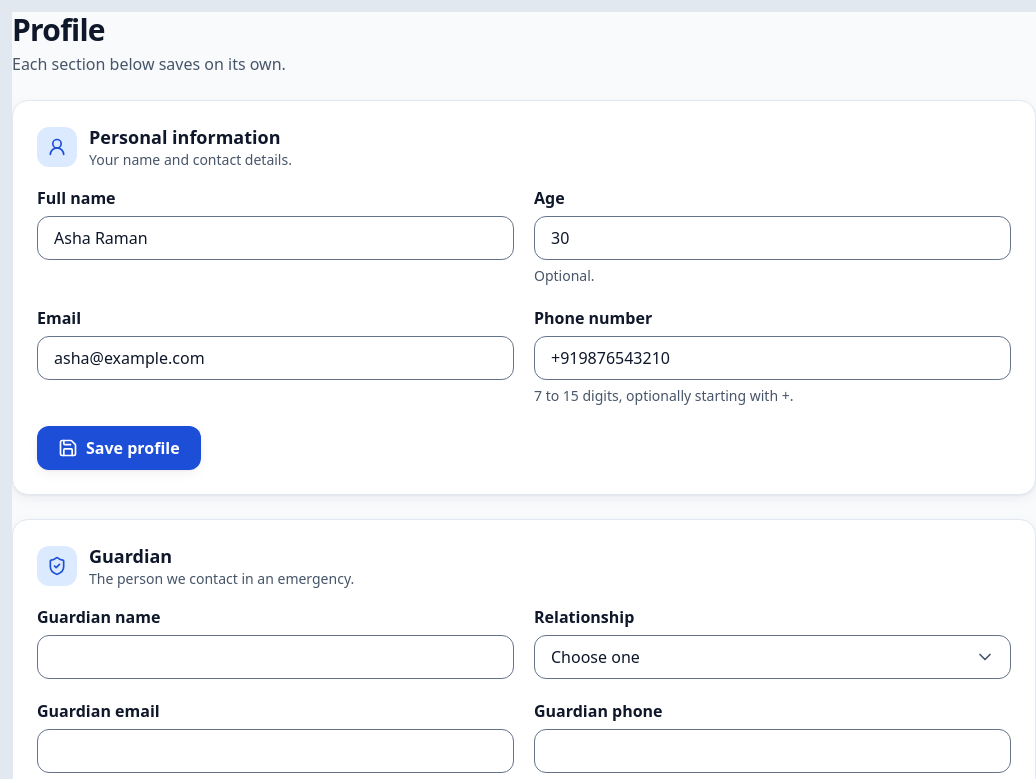
Profile page › saves the profile and shows a success toast
Replace the text in the field labelled "Full name" with "Asha R" at [276, 238], box [37,216,514,260]
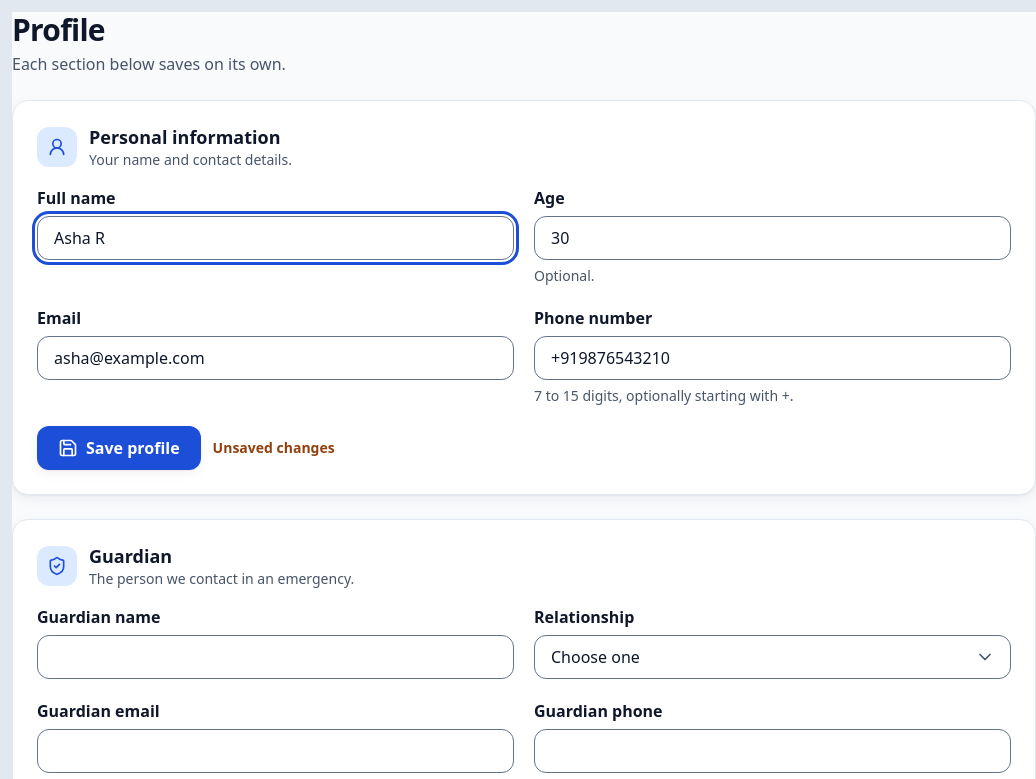
Expected: the text "Unsaved changes" is shown, [213,438,335,458]
Click the button "Save profile" at [119, 448], box [37,426,201,470]
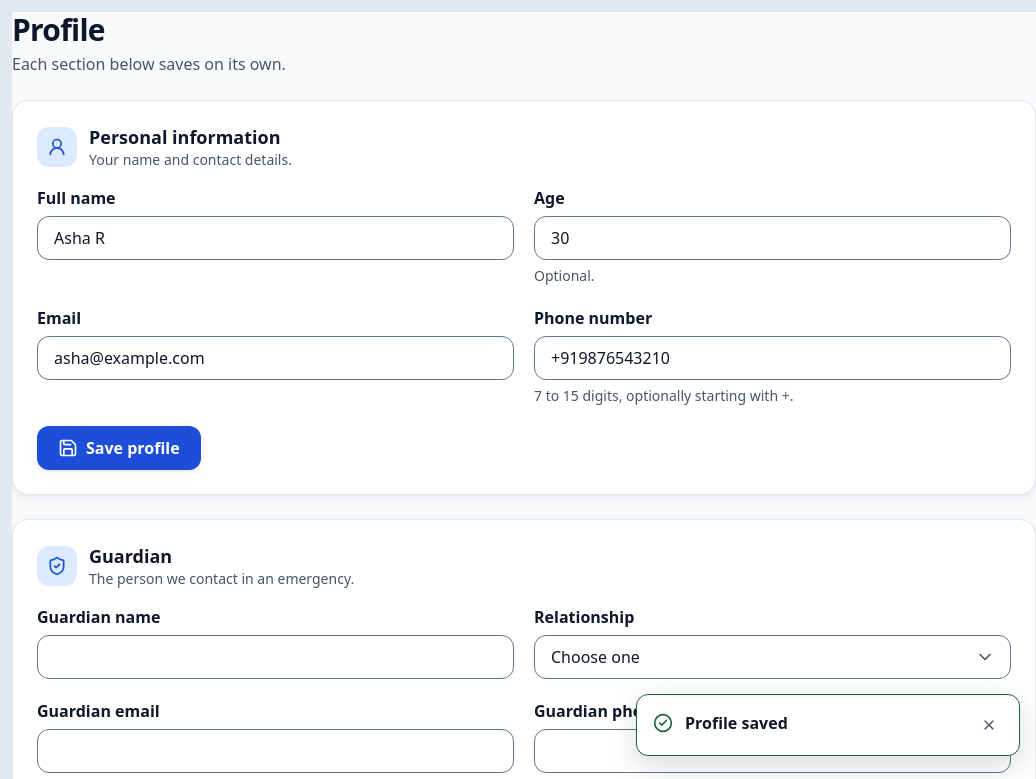
Expected: the text "Profile saved" is shown, [685,712,788,734]
Expected: the text "Unsaved changes" is gone
